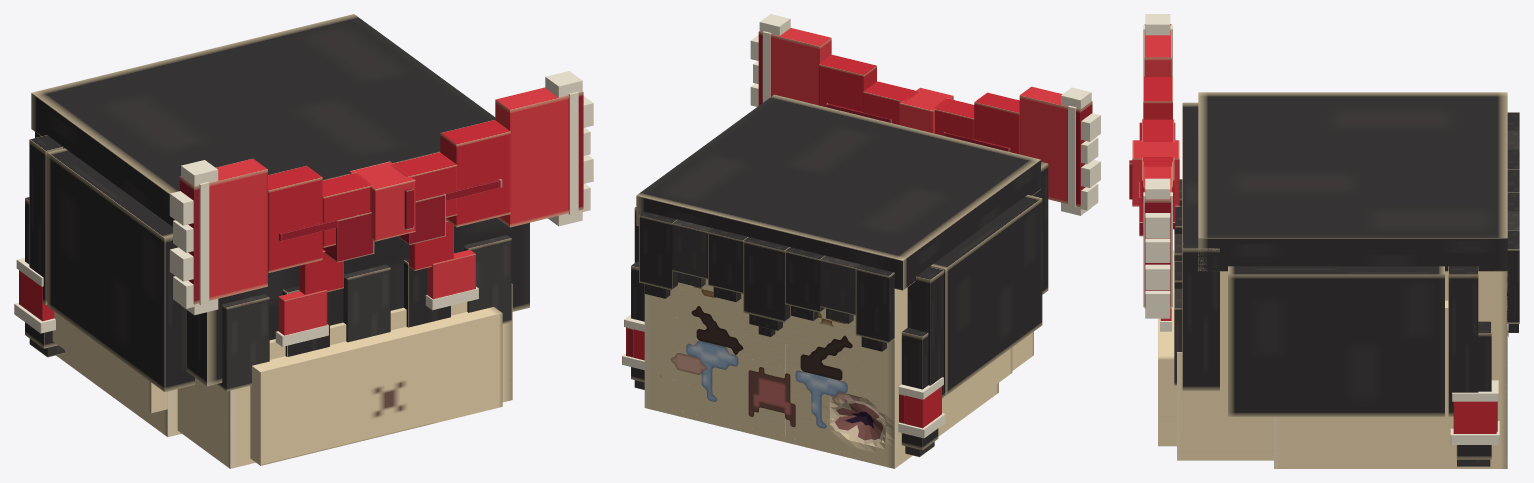
Rendered from tear_reimu_3.obj.
3 renders of one model, left to right at view 1: azimuth 30°, elevation 25°; view 2: azimuth 150°, elevation 25°; view 3: azimuth 270°, elevation 25°, orthographic. The views are drawn at different scales.
Visible parts, largest first — view 1: tear_reimu_3; view 2: tear_reimu_3; view 3: tear_reimu_3.
Boxes of the visible parts, x1,y1,x2,y2 form: tear_reimu_3: [14, 14, 593, 468]; tear_reimu_3: [622, 14, 1100, 468]; tear_reimu_3: [1129, 14, 1519, 468].
Size of the model in its own units: 16.28 by 12.24 by 14.49.
Materials: 1 (1 with a texture image).
